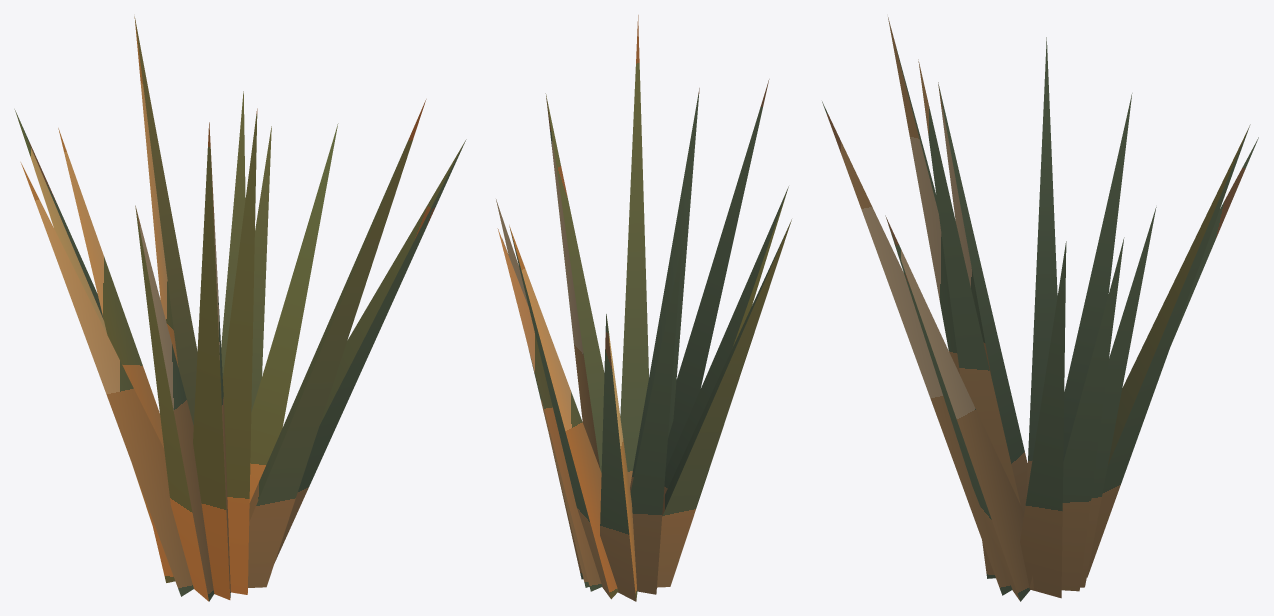
File: wland.grass.glb
3 views of the same model, side by side, from view 1: azimuth 30°, elevation 25°; view 2: azimuth 150°, elevation 25°; view 3: azimuth 270°, elevation 25° (orthographic). The views are drawn at different scales.
Visible parts, largest first — view 1: kit_blades; view 2: kit_blades; view 3: kit_blades.
Boxes of the visible parts, x1,y1,x2,y2 form: kit_blades: [14, 16, 466, 601]; kit_blades: [496, 15, 791, 601]; kit_blades: [822, 17, 1258, 601].
Size of the model in its own units: 0.3458 by 0.4936 by 0.3696.
1 material, 1 textured.
